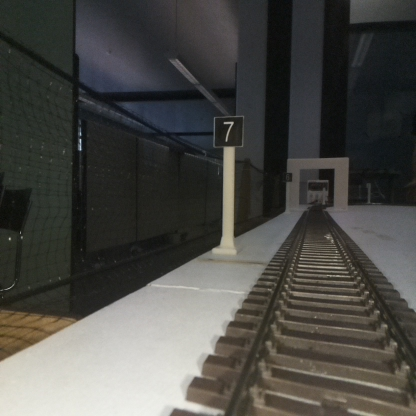black-info-6: (282, 172, 292, 213)
black-info-7: (213, 115, 243, 251)
